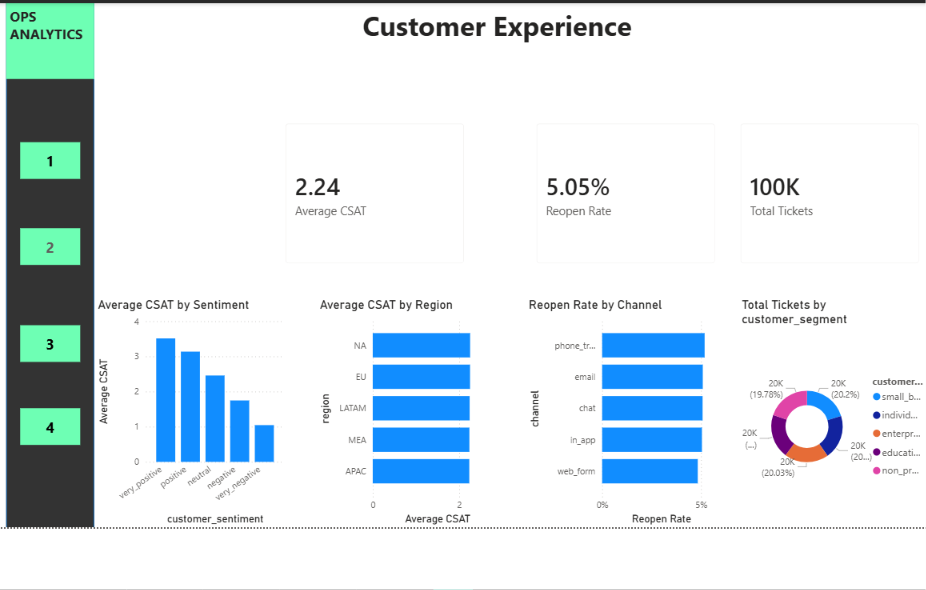

What the dashboard file says about the page in this screenshot:
{"tool":"powerbi","page":{"name":"Page 3","canvas":[1280,720],"ordinal":2},"visuals":[{"type":"textbox","box":[9.6,0,1270.7,104.3],"z":0},{"type":"cardVisual","fields":{"Data":["support_tickets_cleaned.Average CSAT"]},"box":[376,148.2,279.9,226.4],"z":1000},{"type":"cardVisual","fields":{"Data":["support_tickets_cleaned.Reopen Rate"]},"box":[720.4,148.2,279.9,226.4],"z":2000},{"type":"cardVisual","fields":{"Data":["support_tickets_cleaned.Total Tickets"]},"box":[1000.3,148.2,279.9,226.4],"z":3000},{"type":"clusteredColumnChart","title":"Average CSAT by Sentiment","fields":{"Category":["support_tickets_cleaned.customer_sentiment"],"Y":["support_tickets_cleaned.Average CSAT"]},"box":[130.4,403.4,266.2,317],"z":4000},{"type":"clusteredBarChart","title":"Average CSAT by Region","fields":{"Category":["support_tickets_cleaned.region"],"Y":["support_tickets_cleaned.Average CSAT"]},"box":[435,403.4,264.8,317],"z":5000},{"type":"clusteredBarChart","title":"Reopen Rate by Channel","fields":{"Category":["support_tickets_cleaned.channel"],"Y":["support_tickets_cleaned.Reopen Rate"]},"box":[721.8,403.4,282.7,317],"z":6000},{"type":"donutChart","fields":{"Category":["support_tickets_cleaned.customer_segment"],"Y":["support_tickets_cleaned.Total Tickets"]},"box":[1014.1,403.4,266.2,317],"z":7000},{"type":"shape","box":[9.6,0,120.8,720.4],"z":8000},{"type":"actionButton","box":[28.8,190.7,82.3,50.8],"z":9000},{"type":"actionButton","box":[28.8,308.7,82.3,50.8],"z":10000},{"type":"actionButton","box":[28.8,441.9,82.3,50.8],"z":11000},{"type":"actionButton","box":[28.8,555.7,82.3,50.8],"z":12000},{"type":"textbox","box":[9.6,0,120.8,104.3],"z":12001}]}

Visuals, with their boxes on the page's 1280x720 design canvas (x1, y1, x2, y2). These are canvas units, not pixel positions in the 926x590 screenshot, which may show the page scaled, cropped or inside an application window:
textbox: crop(10, 0, 1280, 104)
cardVisual - support_tickets_cleaned.Average CSAT: crop(376, 148, 656, 375)
cardVisual - support_tickets_cleaned.Reopen Rate: crop(720, 148, 1000, 375)
cardVisual - support_tickets_cleaned.Total Tickets: crop(1000, 148, 1280, 375)
"Average CSAT by Sentiment" clusteredColumnChart: crop(130, 403, 397, 720)
"Average CSAT by Region" clusteredBarChart: crop(435, 403, 700, 720)
"Reopen Rate by Channel" clusteredBarChart: crop(722, 403, 1004, 720)
donutChart - support_tickets_cleaned.customer_segment x support_tickets_cleaned.Total Tickets: crop(1014, 403, 1280, 720)
shape: crop(10, 0, 130, 720)
actionButton: crop(29, 191, 111, 242)
actionButton: crop(29, 309, 111, 360)
actionButton: crop(29, 442, 111, 493)
actionButton: crop(29, 556, 111, 606)
textbox: crop(10, 0, 130, 104)
